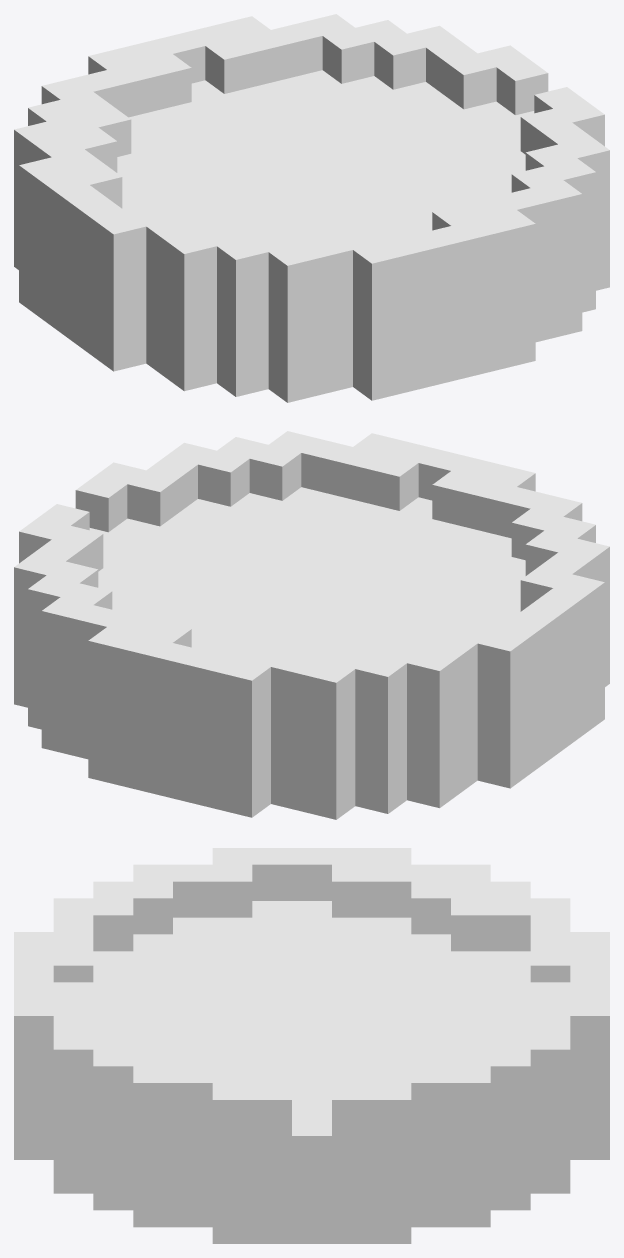
File: beer-0.obj
3 views of the same model, one above another, from view 1: azimuth 30°, elevation 25°; view 2: azimuth 150°, elevation 25°; view 3: azimuth 270°, elevation 25° (orthographic). The views are drawn at different scales.
Bounding box in the file's own units: 1.5 × 0.5 × 1.5.
Materials: 1 (1 with a texture image).
